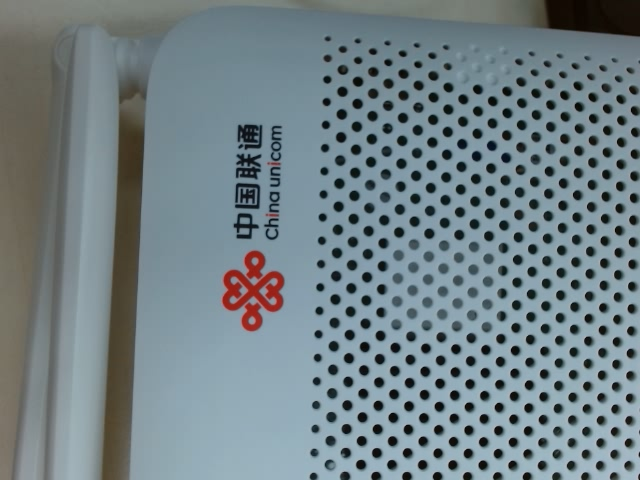AD_ChinaUnicom: (206, 113, 310, 342)
